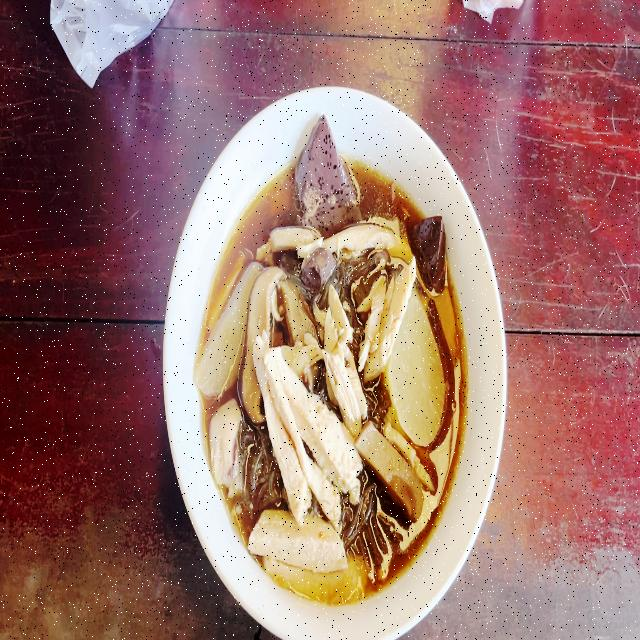boiled_chicken_blood_jelly: (292, 119, 362, 238), (409, 208, 449, 286), (303, 248, 337, 291)
chicken_shredded: (257, 343, 362, 517), (244, 508, 369, 600), (356, 260, 422, 376), (316, 284, 363, 424), (258, 227, 399, 254), (204, 403, 249, 486)
daikon_radish: (195, 262, 249, 388), (401, 308, 446, 450)
noodle: (196, 155, 464, 606)
